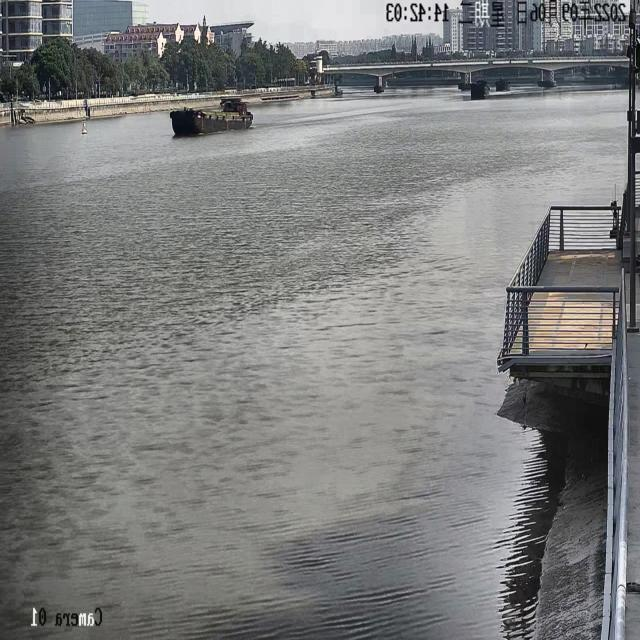ship: (169, 99, 253, 134), (470, 79, 490, 96), (496, 76, 510, 90), (384, 80, 388, 87)
